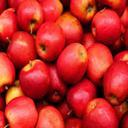apple: (4, 96, 38, 128)
